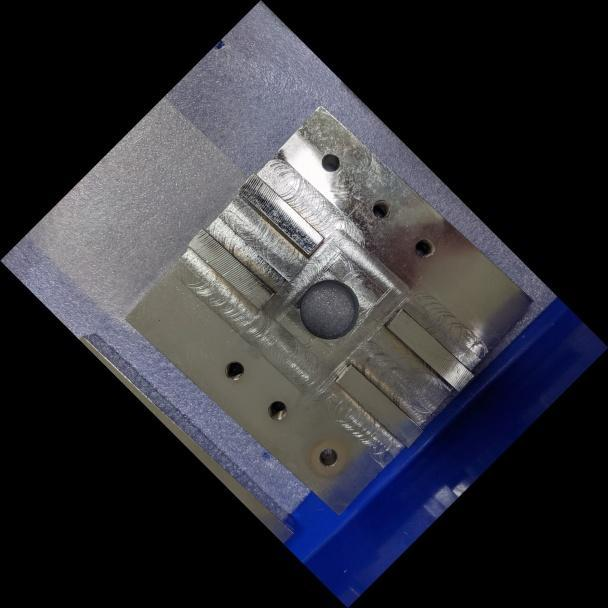hole: (309, 141, 351, 183), (404, 229, 443, 268), (308, 436, 347, 474), (258, 391, 296, 429), (361, 191, 399, 229), (215, 353, 252, 391)
